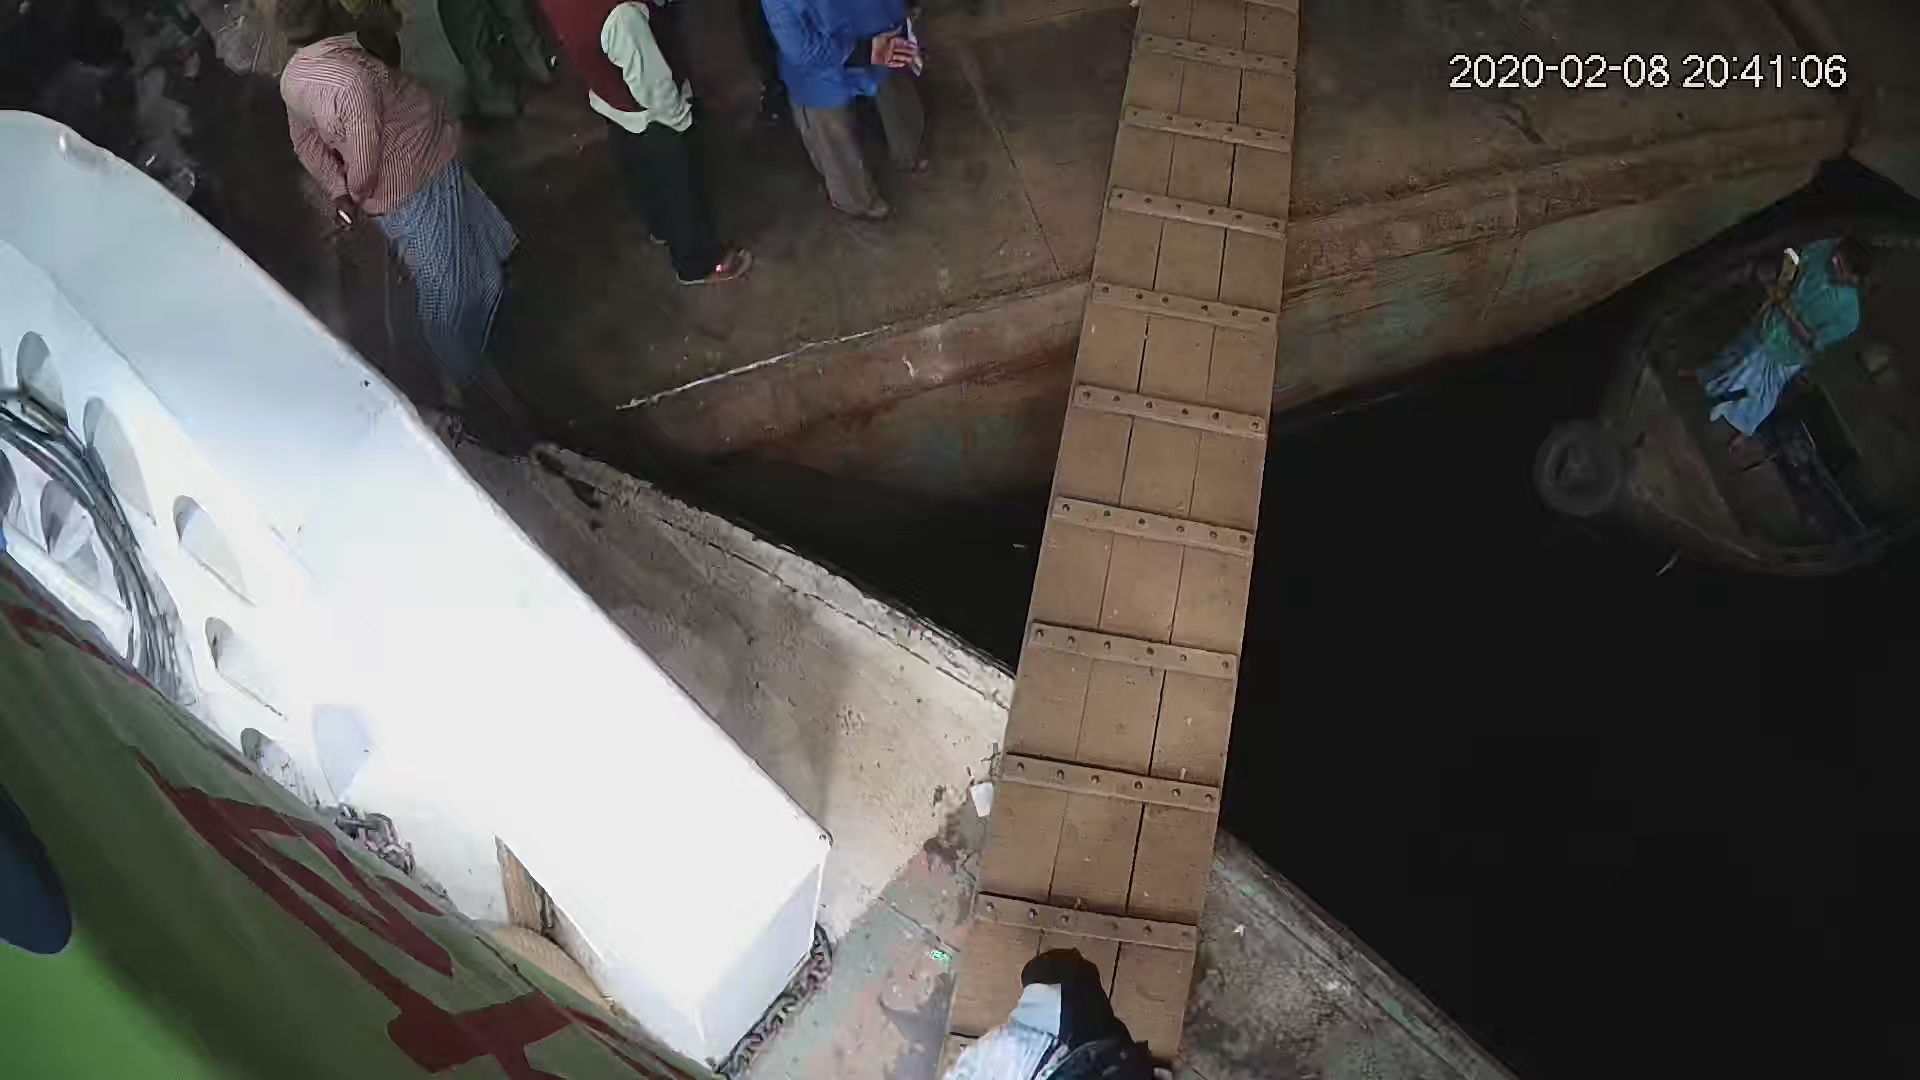person: (259, 3, 531, 409), (531, 1, 754, 295), (748, 1, 938, 236), (1696, 220, 1881, 451)
